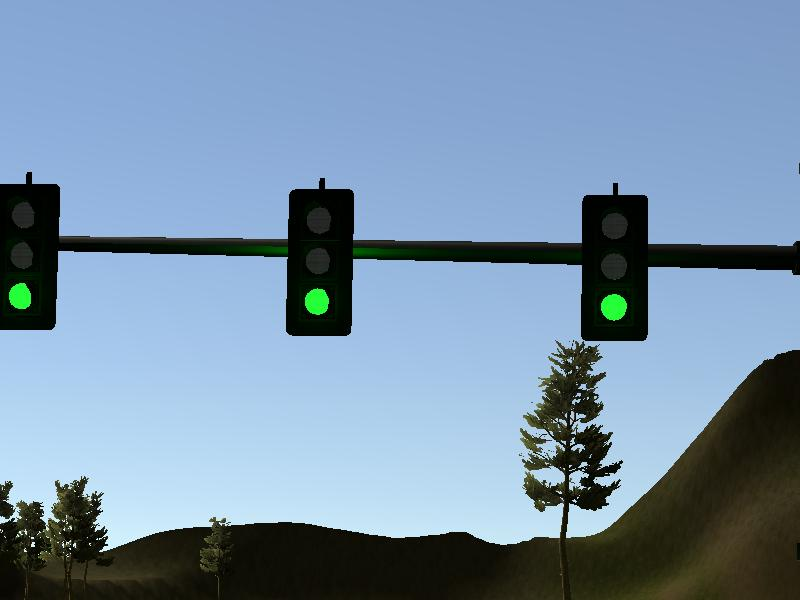green: (580, 195, 649, 341), (285, 187, 352, 336), (1, 184, 57, 332)
